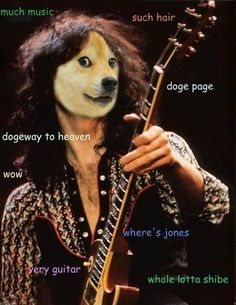doge: (38, 18, 135, 130)
